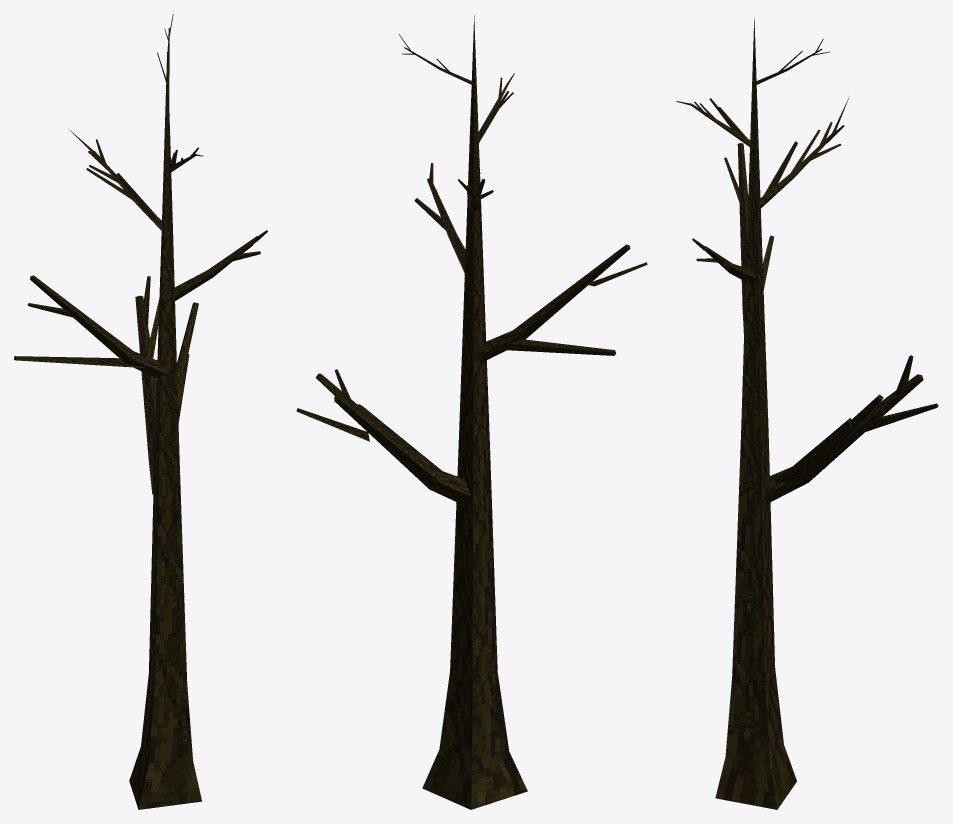
File: PruebaScena.gltf
3 views of the same model, side by side, from view 1: azimuth 30°, elevation 25°; view 2: azimuth 150°, elevation 25°; view 3: azimuth 270°, elevation 25° (orthographic). The views are drawn at different scales.
Visible parts, largest first — view 1: WoodsTree; view 2: WoodsTree; view 3: WoodsTree.
Boxes of the visible parts, x1=… form: WoodsTree: x1=14, y1=14, x2=267, y2=809; WoodsTree: x1=296, y1=15, x2=647, y2=809; WoodsTree: x1=676, y1=18, x2=938, y2=809.
Bounding box in the file's own units: 6.75 × 19.71 × 6.04.
Materials: 1 (1 with a texture image).
